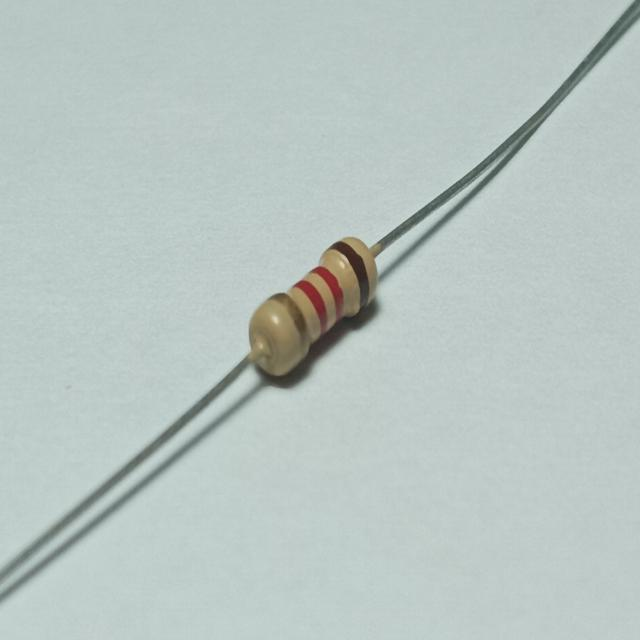1.2k ohms: (240, 227, 388, 388)
